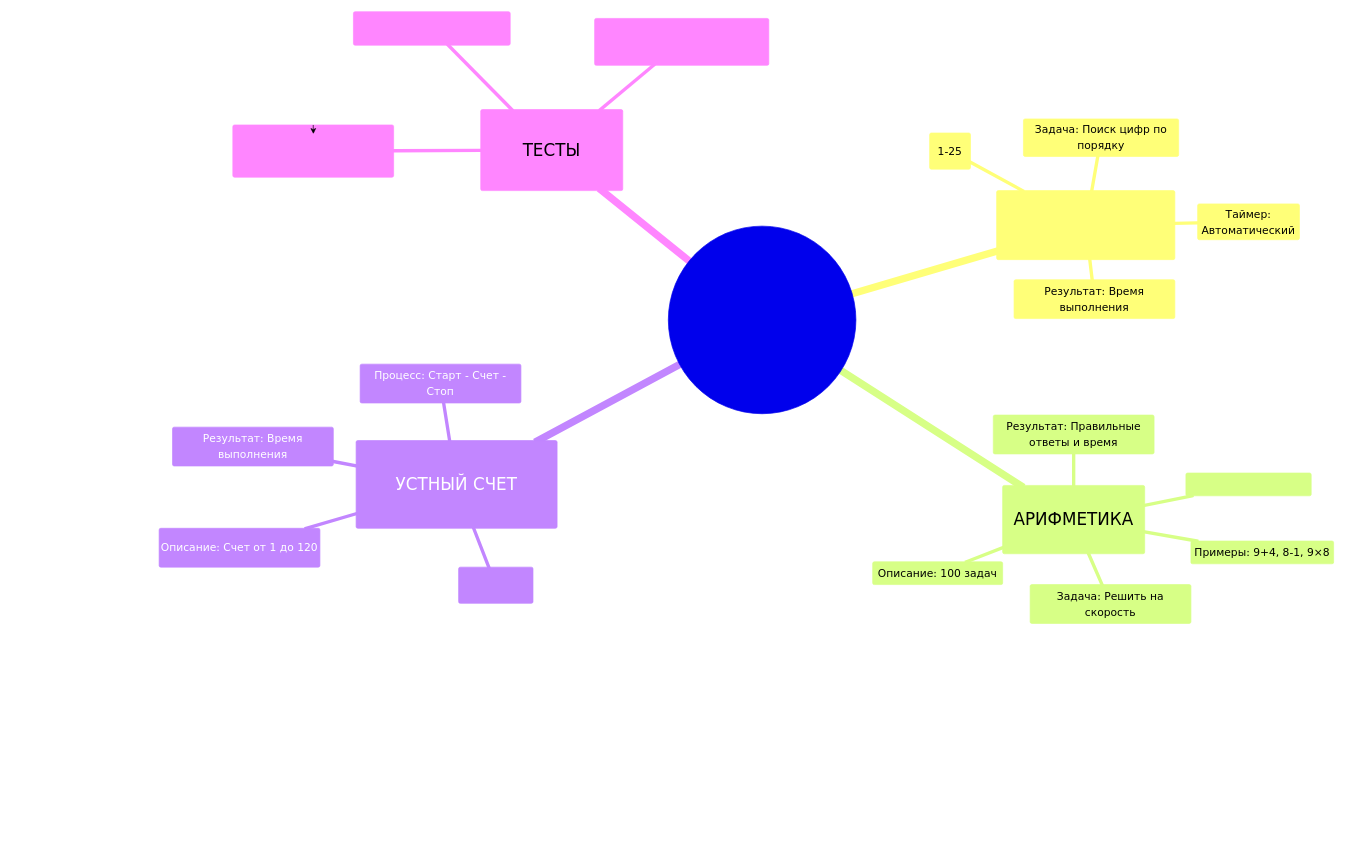
Image size: 1345x854. Some labels were removed from this diagram. Here are the shapes that lost their labels. From the top down, the centre of each, then its label:
the point at 431,28: Таймер: Индивидуальный
the point at 681,41: Результат: Рейтинг и оценки
the point at 313,150: Описание: Психологические тесты
the point at 1085,225: ТАБЛИЦЫ ШУЛЬТЕ
the point at 762,319: Когнитивная тренировка
the point at 1248,484: Таймер: Старт-Стоп
the point at 495,584: Старт-Стоп
